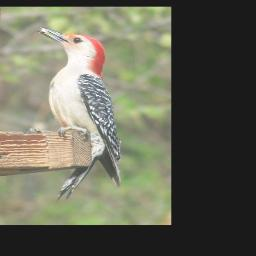Woodpecker: (34, 26, 121, 202)
